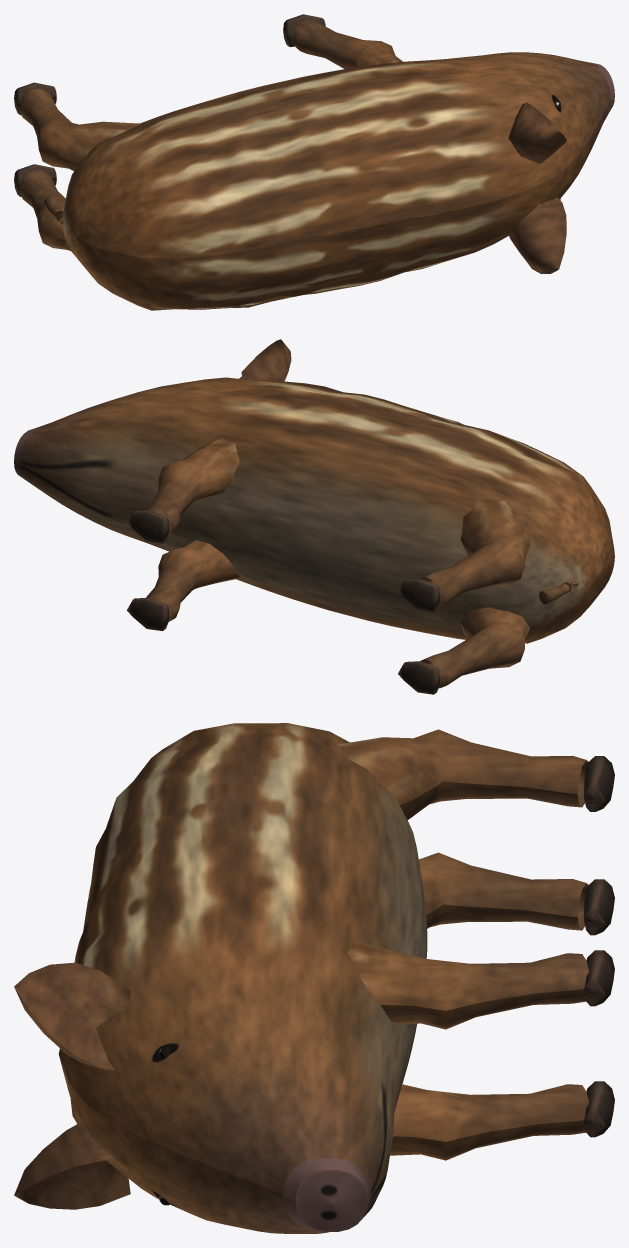
The model's file is boar_piglet.obj.
The picture shows the model from 3 angles, top to bottom: view 1: azimuth 30°, elevation 25°; view 2: azimuth 150°, elevation 25°; view 3: azimuth 270°, elevation 25°; orthographic projection. The views are drawn at different scales.
Visible parts, largest first — view 1: boar_piglet; view 2: boar_piglet; view 3: boar_piglet.
Boxes of the visible parts, box(x1,y1,x2,y2) form: boar_piglet: box(14, 14, 614, 310); boar_piglet: box(14, 339, 614, 694); boar_piglet: box(14, 723, 614, 1233).
Bounding box in the file's own units: 0.4234 × 0.1364 × 0.2639.
1 material, 1 textured.
